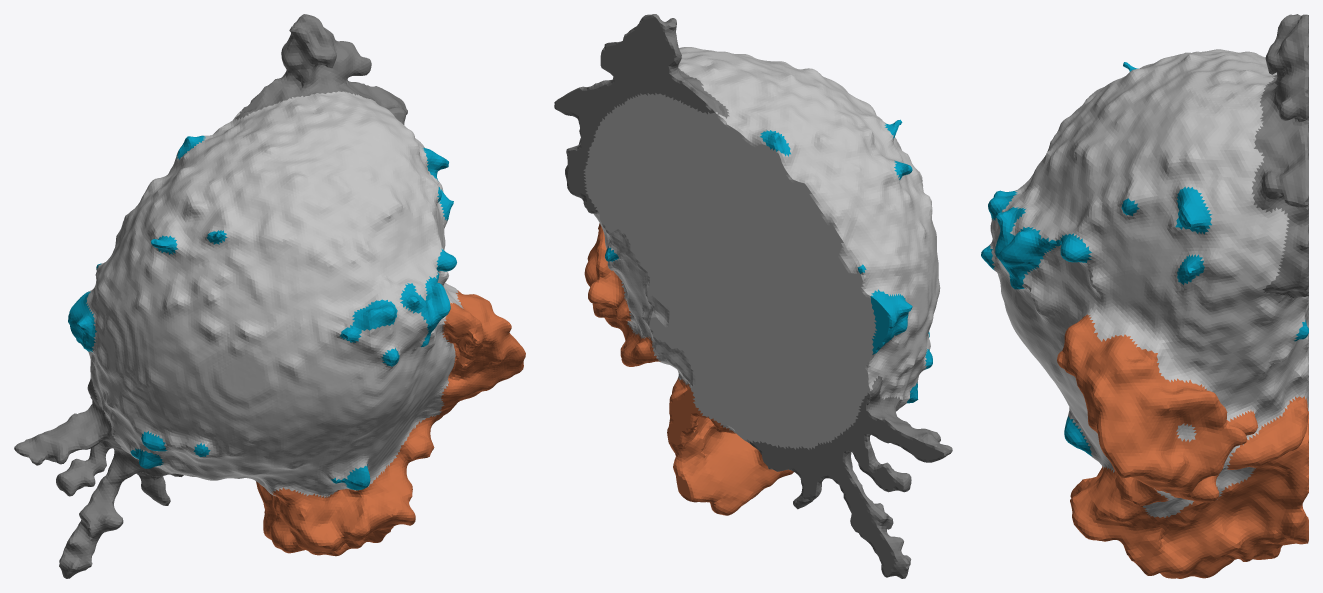
The picture shows the model from 3 angles, left to right: view 1: azimuth 30°, elevation 25°; view 2: azimuth 150°, elevation 25°; view 3: azimuth 270°, elevation 25°; orthographic projection. The views are drawn at different scales.
Bounding box in the file's own units: 129 × 143 × 72.81.
